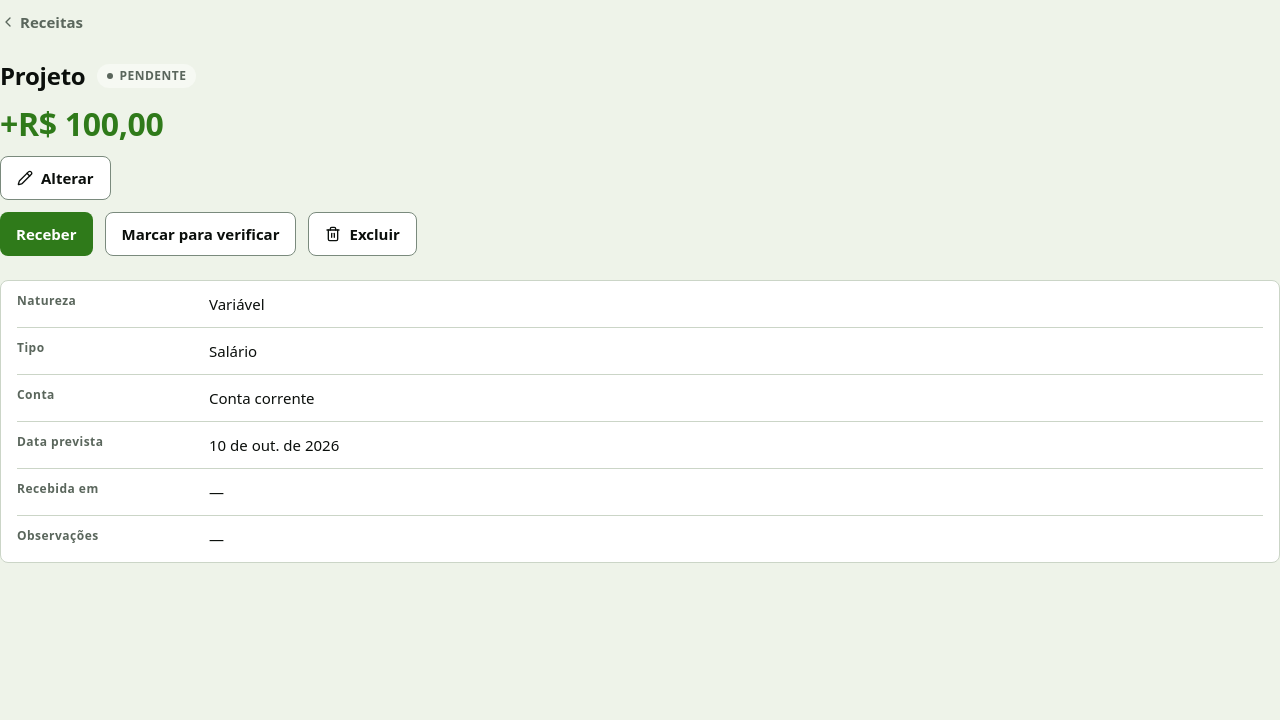
EarningActions (spec 0014) › receives with today as the default date
Check: the heading "Projeto" is shown, box [0,60,86,92]
Step 1. Click the button "Receber" → (46,234), box [0,212,92,256]
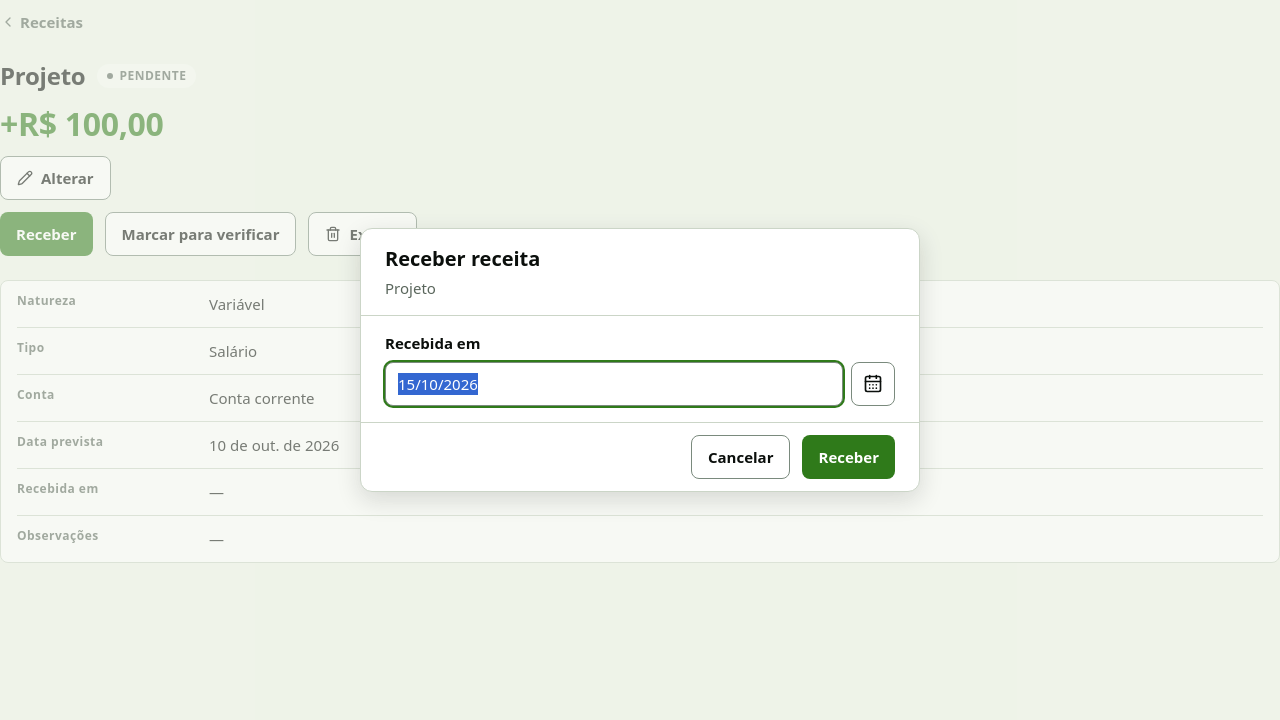
Check: the field labelled "Recebida em" holds "15/10/2026", box [385,362,843,406]
Step 2. Click the button "Receber" → (849,457), box [802,435,895,479]
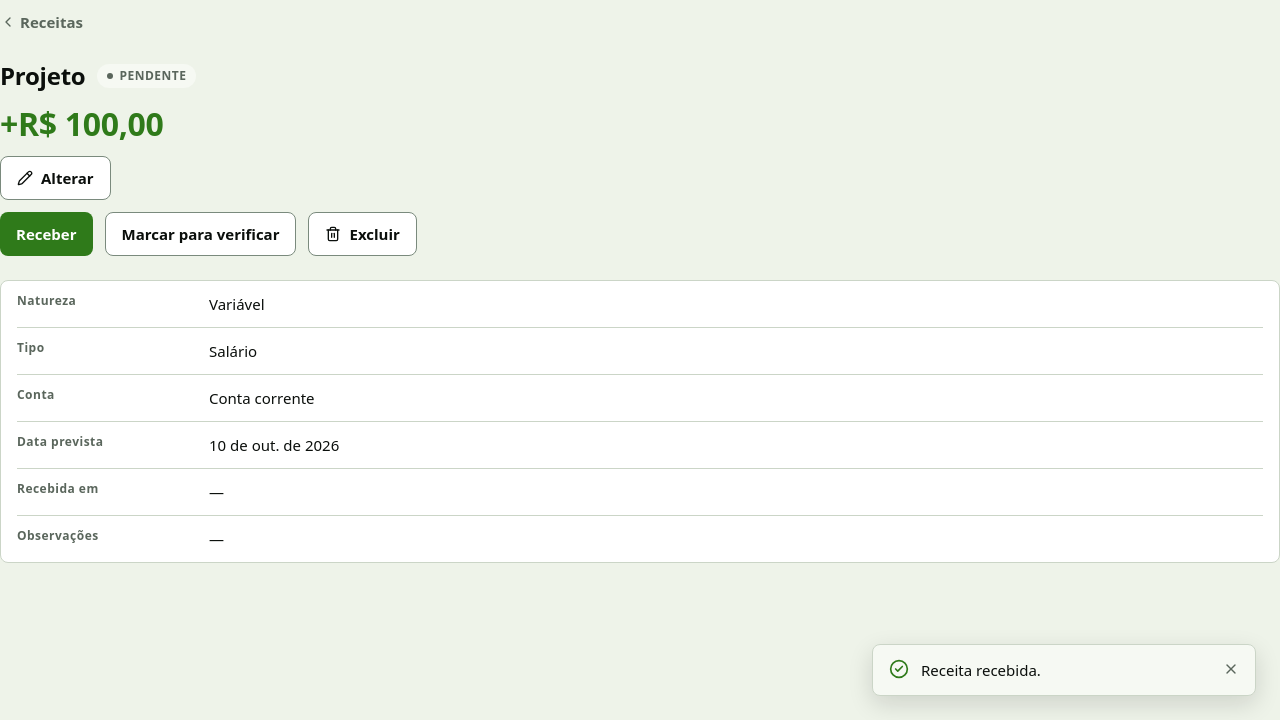
Check: the dialog is gone
Check: the text "Receita recebida." is shown, box [921,660,1041,680]
